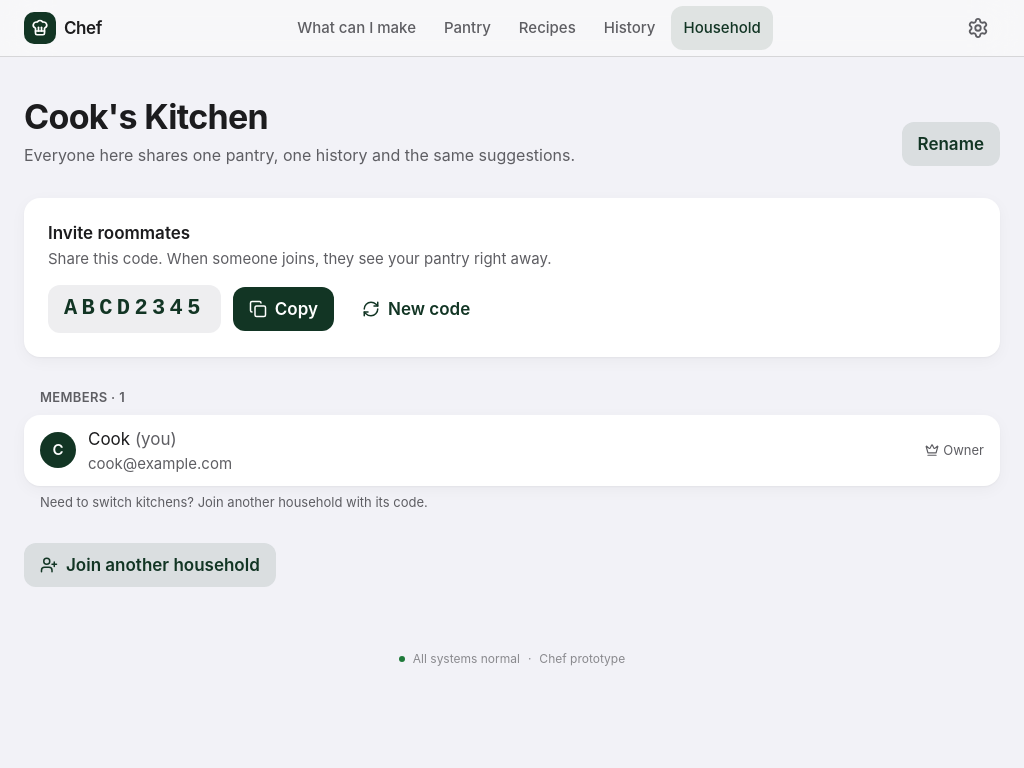
Test: HouseholdPage › copies the invite code
The image size is (1024, 768).
Click the button "Copy".
click(283, 309)  # box [233,287,334,331]
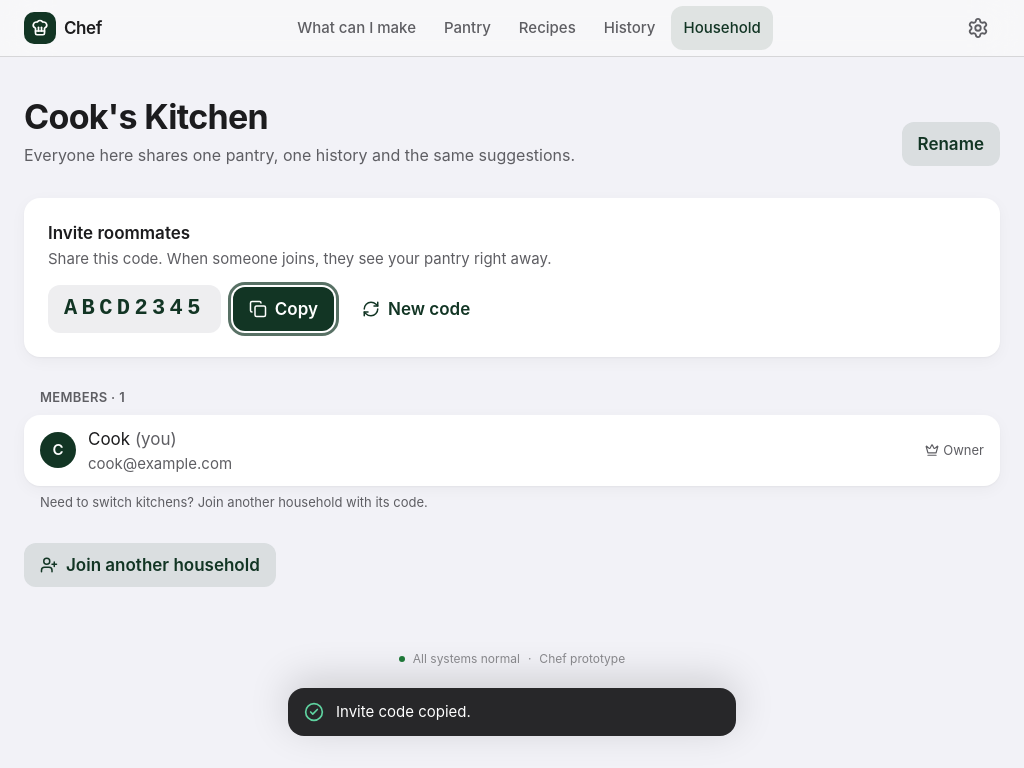
Now the text "Invite code copied." is shown, box [336,702,471,721]
